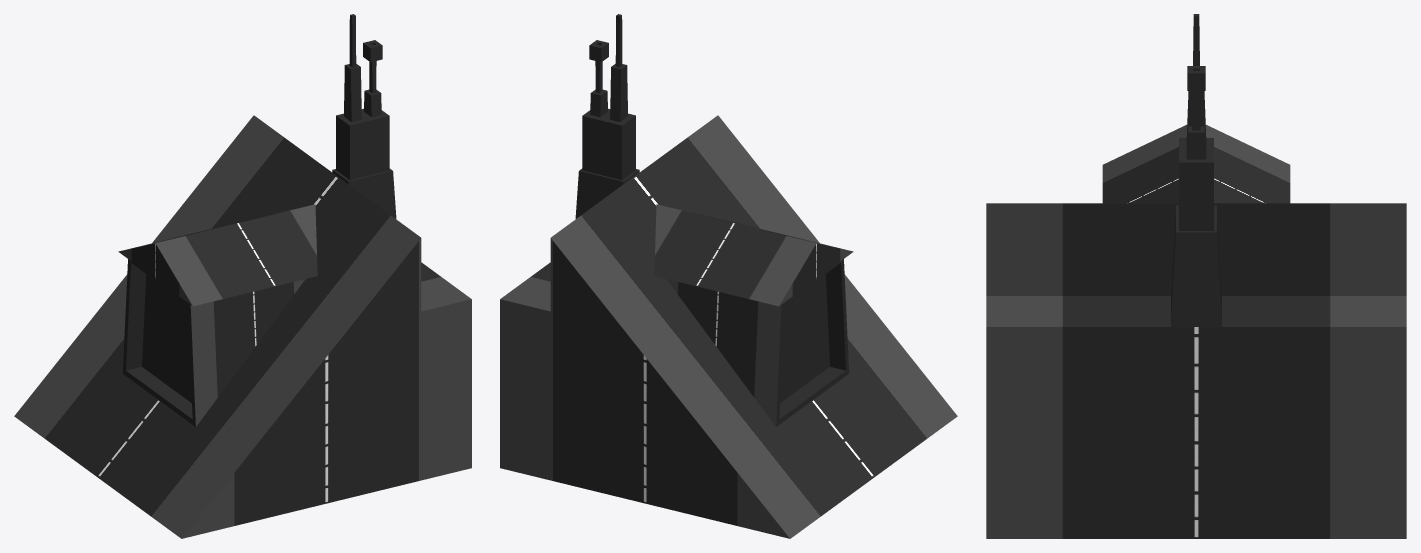
The model's file is roof2.fbx.
The picture shows the model from 3 angles, left to right: view 1: azimuth 30°, elevation 25°; view 2: azimuth 150°, elevation 25°; view 3: azimuth 270°, elevation 25°; orthographic projection. The views are drawn at different scales.
Parts seen in each view (by area): view 1: Roof2; view 2: Roof2; view 3: Roof2.
Part boxes in pixels (left/top/right/bottom): Roof2: left=14, top=14, right=471, bottom=538; Roof2: left=500, top=14, right=957, bottom=538; Roof2: left=986, top=14, right=1406, bottom=538.
Size of the model in its own units: 200 by 264 by 200.
